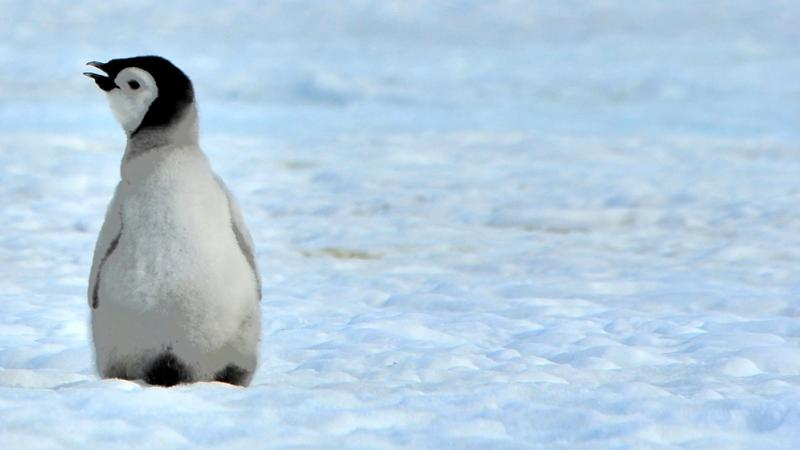Emperor Penguin: (0, 0, 103, 411)
